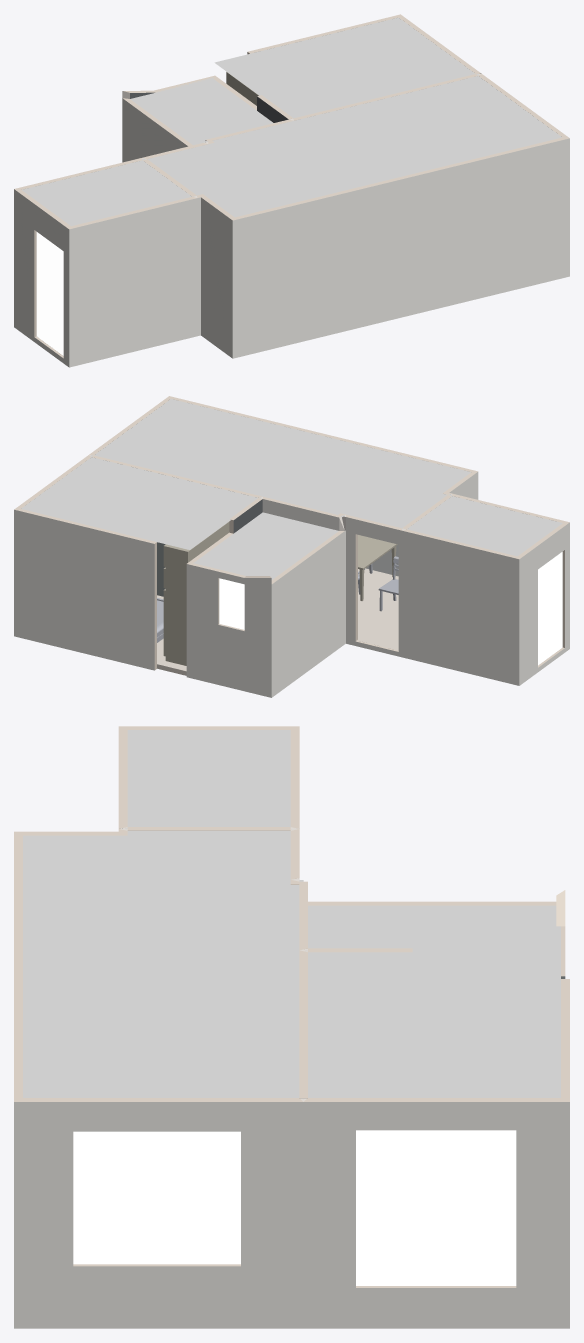
File: room.glb
The picture shows the model from 3 angles, top to bottom: view 1: azimuth 30°, elevation 25°; view 2: azimuth 150°, elevation 25°; view 3: azimuth 270°, elevation 25°; orthographic projection. The views are drawn at different scales.
Visible parts, largest first — view 1: Wall_17, Ceiling_Living_Room_1, Wall_10, Ceiling_Bedroom, Ceiling_Other, Wall_14, Ceiling_Kitchen, Wall_2, Door_2, Wall_11, Wall_1, Wall_6 (+3 smaller); view 2: Ceiling_Living_Room_1, Wall_15, Wall_0, Ceiling_Bedroom, Wall_3, Wall_11, Ceiling_Kitchen, Ceiling_Other, Wall_14, storage_cabinet_tall2_0, Wall_5, Floor_Living_Room (+11 smaller); view 3: Ceiling_Living_Room_1, Wall_9, Ceiling_Bedroom, Wall_8, Window_1, Window_2, Ceiling_Other, Ceiling_Kitchen, Wall_17, Wall_6, Wall_11, Wall_15 (+2 smaller).
Boxes of the visible parts, x1,y1,x2,y2 form: Wall_17: (232,137,569,358); Ceiling_Living_Room_1: (151,75,561,217); Wall_10: (69,196,197,367); Ceiling_Bedroom: (214,17,478,118); Ceiling_Other: (22,159,191,226); Wall_14: (14,189,70,367); Ceiling_Kitchen: (130,77,273,145); Wall_2: (201,194,234,358); Door_2: (36,232,63,355); Wall_11: (122,98,192,162); Wall_1: (213,75,293,122); Wall_6: (293,74,477,120); Ceiling_Living_Room_1: (91,399,470,527); Wall_15: (14,509,156,670); Wall_0: (402,529,519,685); Ceiling_Bedroom: (21,456,261,549); Wall_3: (186,563,271,697); Wall_11: (271,531,344,697); Ceiling_Kitchen: (193,512,338,579); Ceiling_Other: (407,494,562,556); Wall_14: (517,522,569,685); storage_cabinet_tall2_0: (163,521,229,665); Wall_5: (346,514,401,657); Floor_Living_Room: (357,568,398,650); Ceiling_Living_Room_1: (23,833,303,1099); Wall_9: (14,1098,303,1328); Ceiling_Bedroom: (305,950,560,1097); Wall_8: (303,1098,569,1328); Window_1: (356,1130,516,1285); Window_2: (73,1131,240,1264); Ceiling_Other: (125,730,290,828); Ceiling_Kitchen: (308,905,560,950); Wall_17: (14,832,22,1101); Wall_6: (299,950,307,1098); Wall_11: (308,901,556,905); Wall_15: (561,979,569,1101).
Bounding box in the file's own units: 9.88 × 2.78 × 6.18.
Materials: 25 (9 with a texture image).
